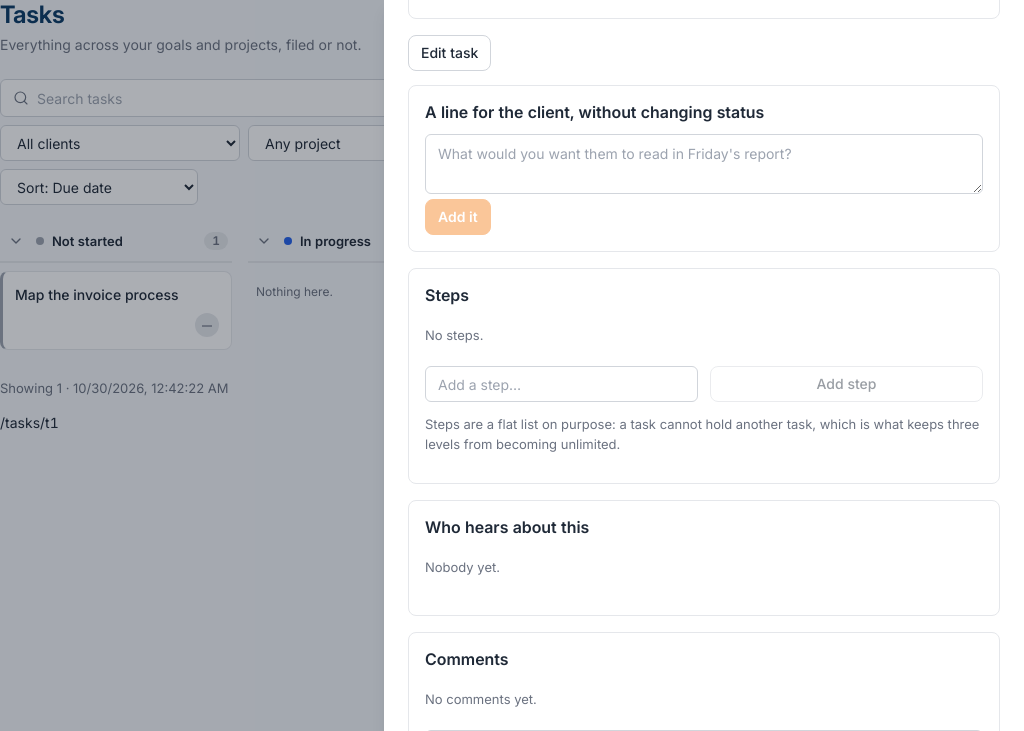
the task sheet: what closes it and what does not › keeps the sheet open on a step and says the step was added
The image size is (1024, 731).
(page scrolled)
Type "Pull the AR aging" into the field named "New step" at (562, 384), box top-left (425, 366), bottom-right (698, 402)
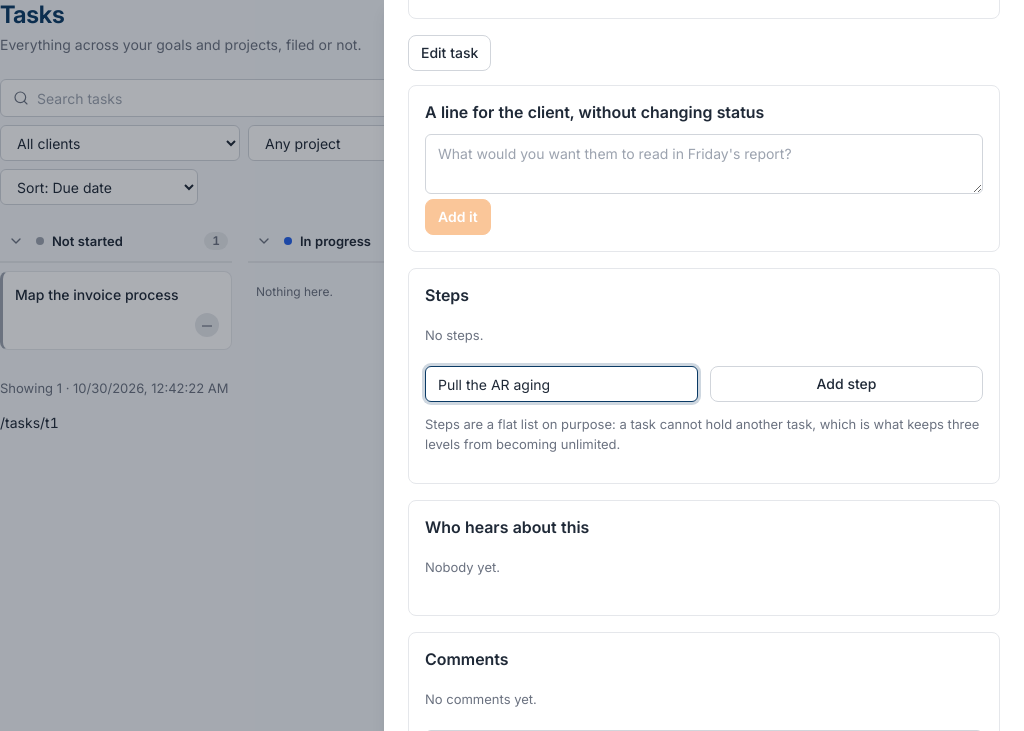
Click the button "Add step" at (846, 384), box top-left (710, 366), bottom-right (983, 402)
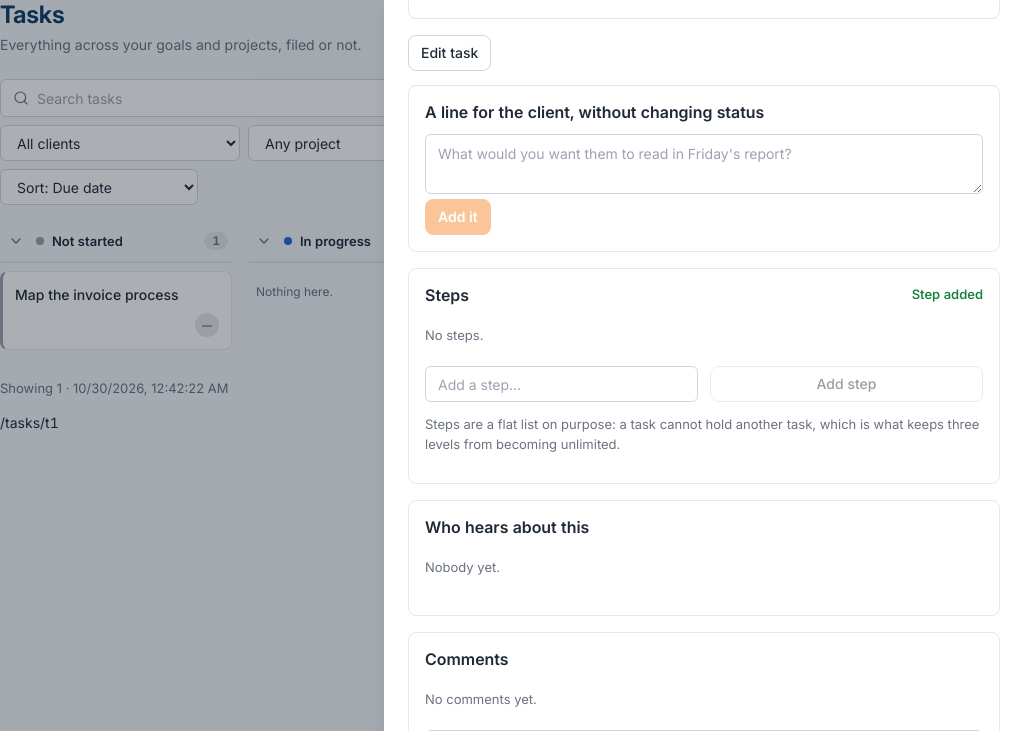
Check: the text "Step added" is shown, box top-left (912, 285), bottom-right (983, 304)
